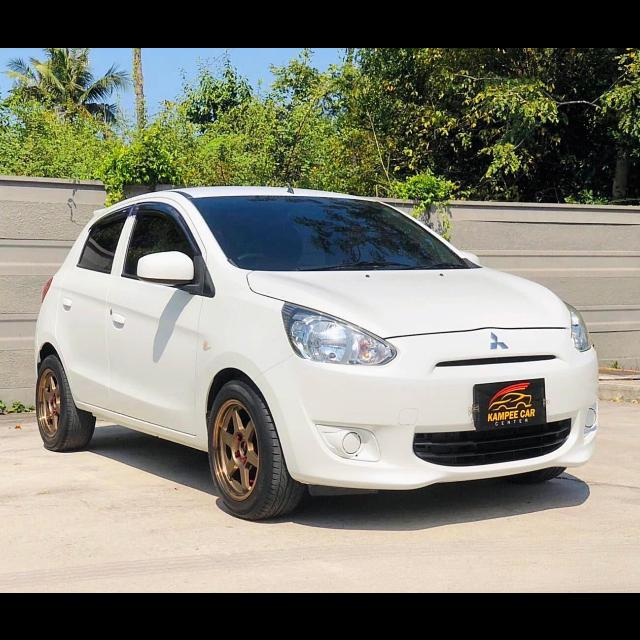cars: (22, 174, 610, 532)
